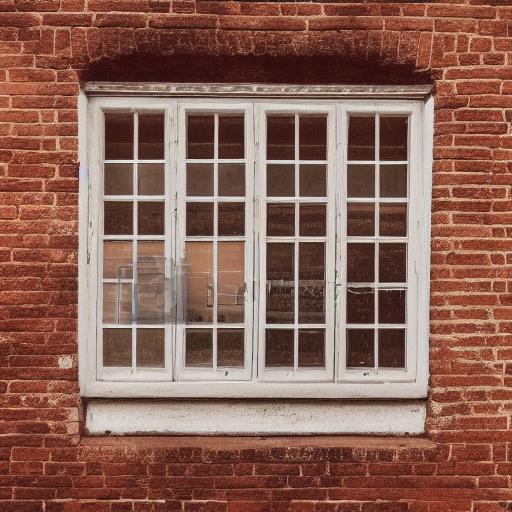Window: (72, 53, 439, 449)
